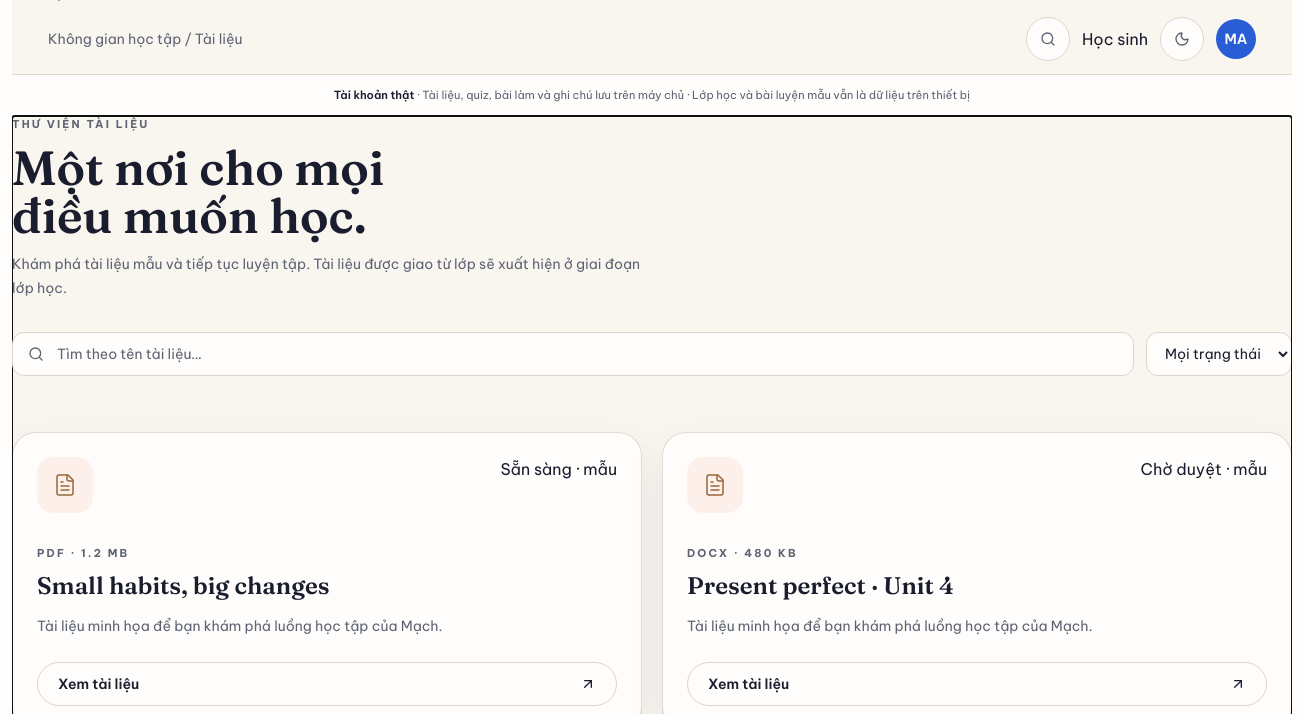
Scenario: App by role › shows a useful empty state for a student's sample document search
(page scrolled)
Step 1. Type "no-match" into the search field named "Tìm tài liệu" → x=573, y=354, box x1=12 y1=332 x2=1134 y2=376
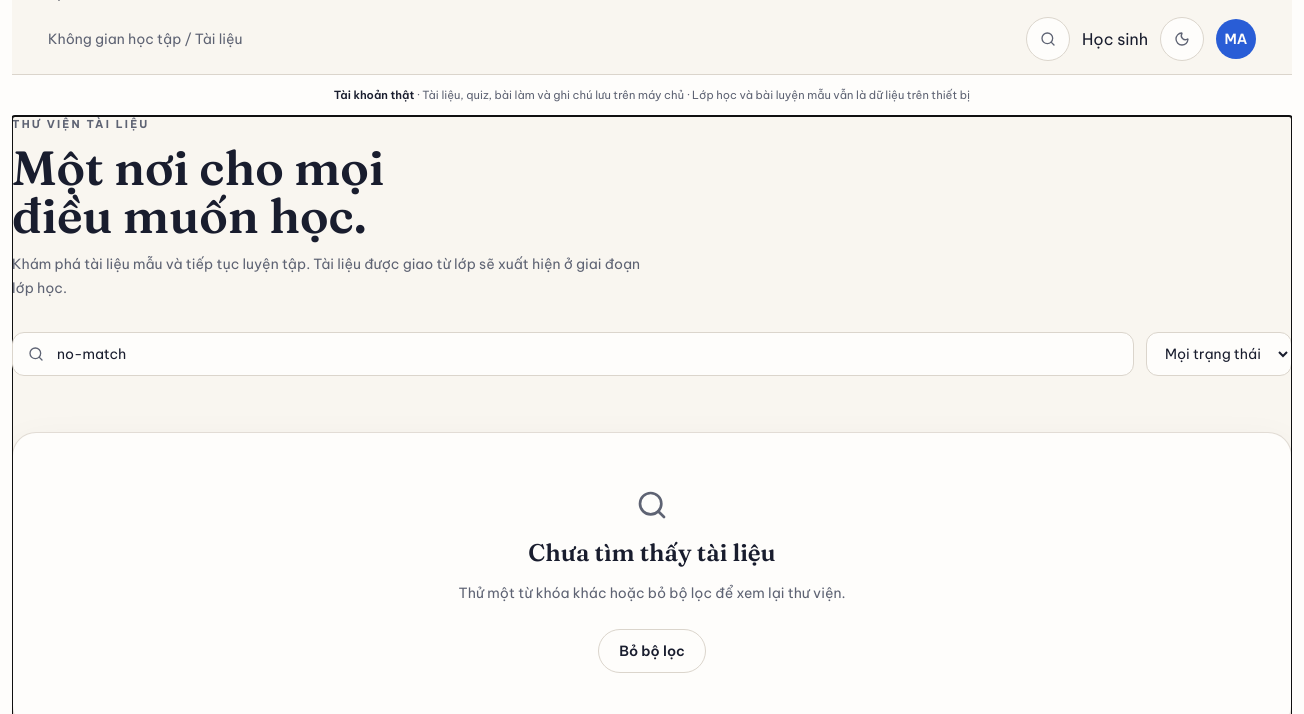
Check: the heading "Chưa tìm thấy tài liệu" is shown, box x1=528 y1=538 x2=776 y2=567
Step 2. Click the button "Bỏ bộ lọc" → x=652, y=651, box x1=598 y1=629 x2=706 y2=673
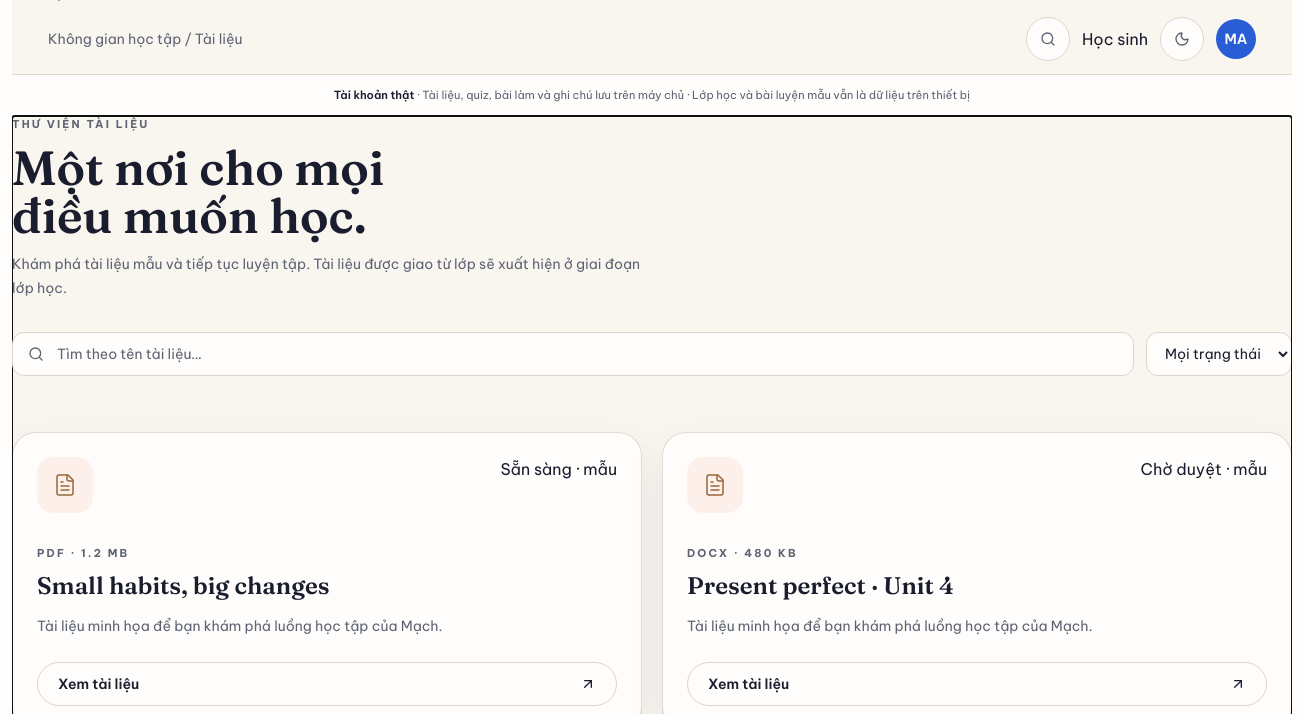
Check: the heading "Small habits, big changes" is shown, box x1=37 y1=571 x2=330 y2=600
